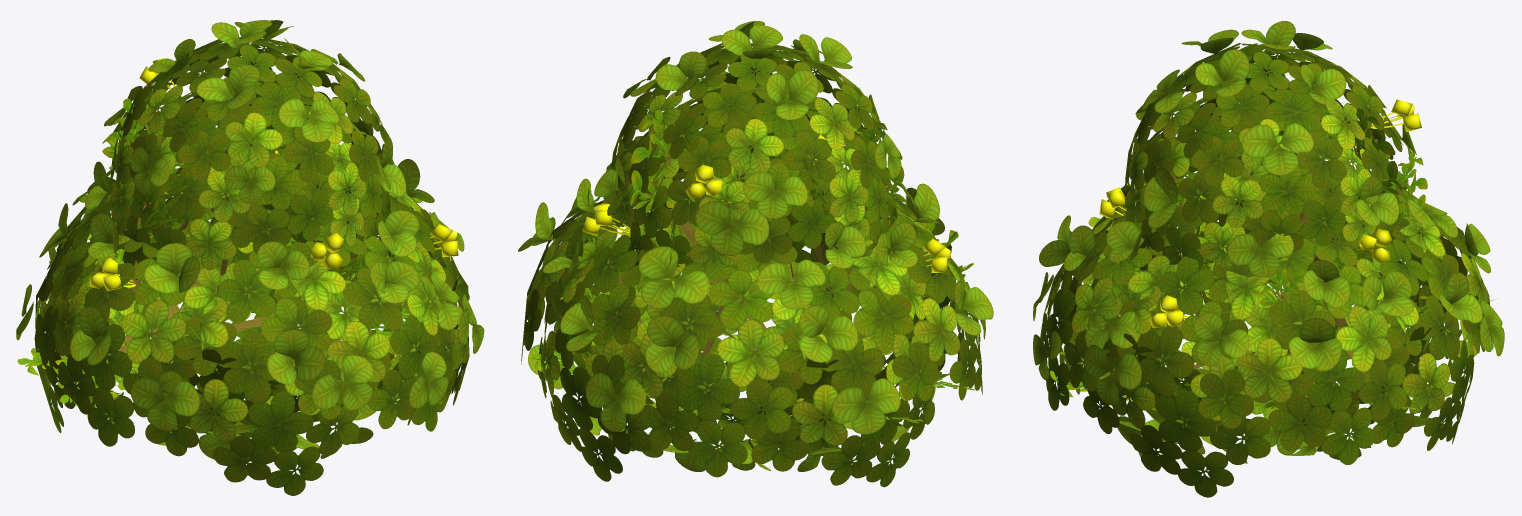
Rendered from leafs.fbx.
The picture shows the model from 3 angles, left to right: view 1: azimuth 30°, elevation 25°; view 2: azimuth 150°, elevation 25°; view 3: azimuth 270°, elevation 25°; orthographic projection.
Visible parts, largest first — view 1: Leaf__TreeSlipLeaf; view 2: Leaf__TreeSlipLeaf; view 3: Leaf__TreeSlipLeaf.
Boxes of the visible parts, <box> form: Leaf__TreeSlipLeaf: <box>16,20,484,495</box>; Leaf__TreeSlipLeaf: <box>518,21,993,487</box>; Leaf__TreeSlipLeaf: <box>1033,21,1504,497</box>.
Size of the model in its own units: 349 by 332 by 349.
Materials: 1 (1 with a texture image).
